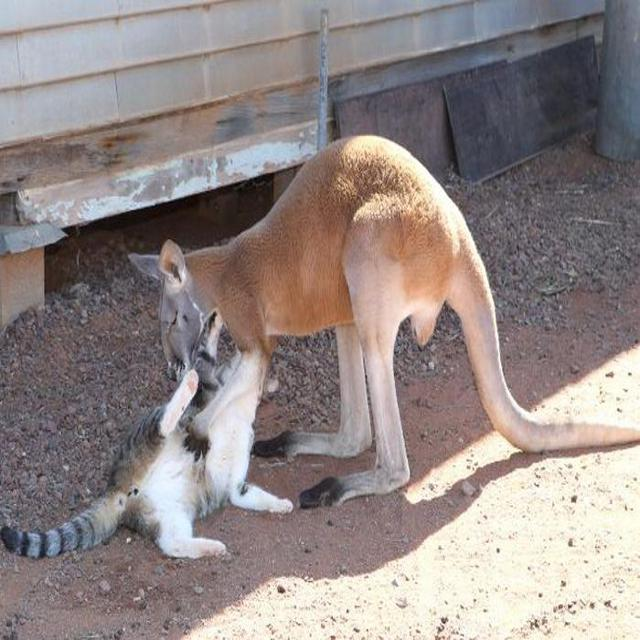kangaroo: (156, 126, 470, 375)
